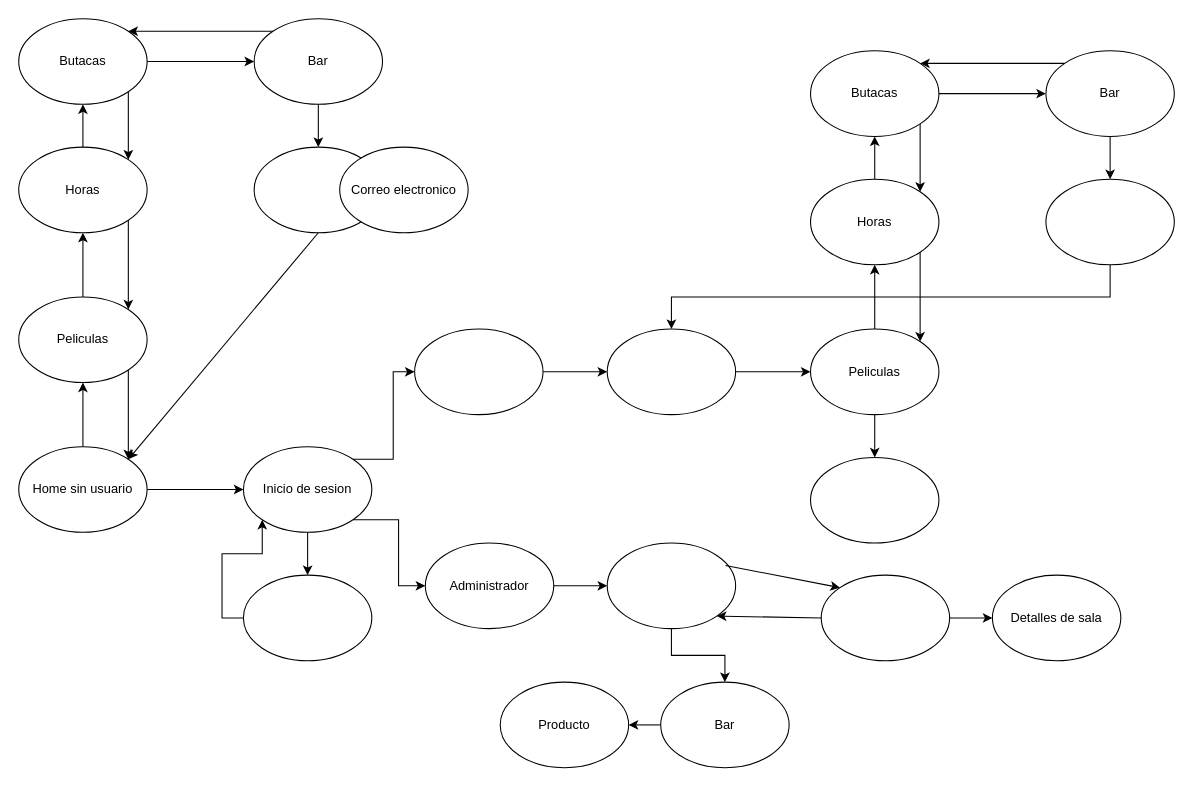
Some shapes in this 1193 by 786 pixel diagram are drawn without their labels. Each missing label, with the centre of its shape:
"Confirmacion de pago" goes at point 1109,221.
"Crear Cuenta" goes at point 307,617.
"Home con usuario" goes at point 671,371.
"Pagar" goes at point 318,189.
"Reseñas y valoraciones" goes at point 874,499.
"Salas" goes at point 885,617.
"Salas y bar" goes at point 671,585.
"Usuario" goes at point 478,371.
